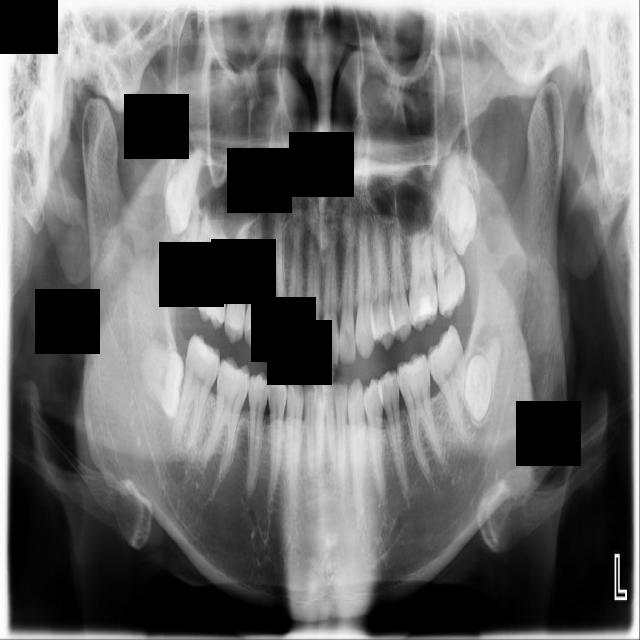3M ESPE Implant: (156, 142, 206, 239)
52: (160, 243, 210, 314), (407, 279, 440, 332)
73: (620, 612, 628, 620)
BioHorizons Implant: (428, 183, 469, 319)
BioLife Implant: (437, 154, 484, 258)
Biomet 3i Implant: (457, 335, 502, 423)
Blue Sky Bio Implant: (419, 323, 485, 445)
Caries: (162, 184, 219, 312)
Implant: (169, 332, 225, 456)
Keystone Dental Implant: (133, 341, 188, 419)
